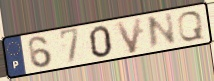0: (87, 24, 114, 59)
6: (27, 35, 55, 71)
7: (58, 26, 81, 68)
N: (146, 11, 178, 52)
Q: (176, 10, 205, 43)
V: (113, 16, 144, 56)
